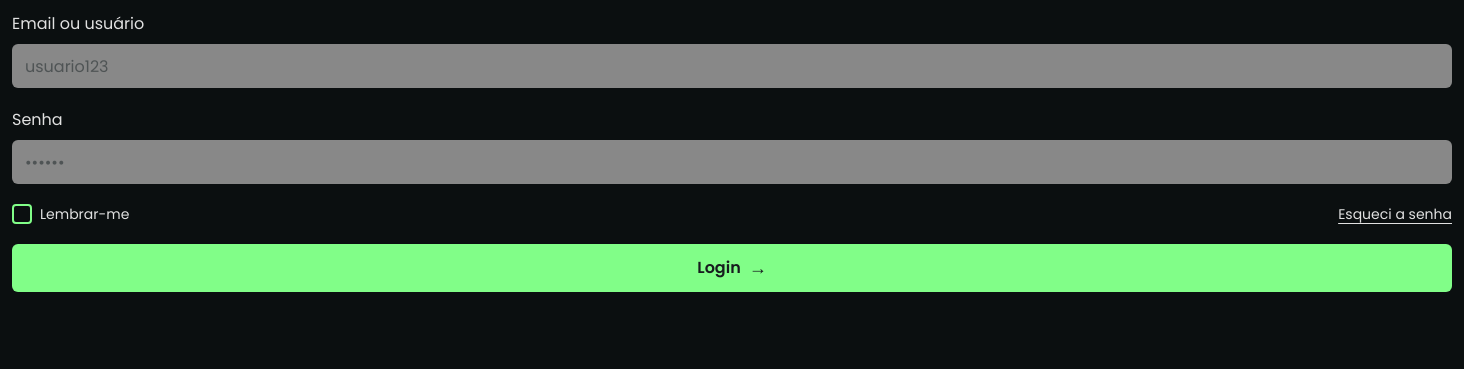
LoginForm › mostra erros e não envia quando o formulário está vazio
The image size is (1464, 369).
Click the button "Login →" at (732, 268), box [12, 244, 1452, 292]
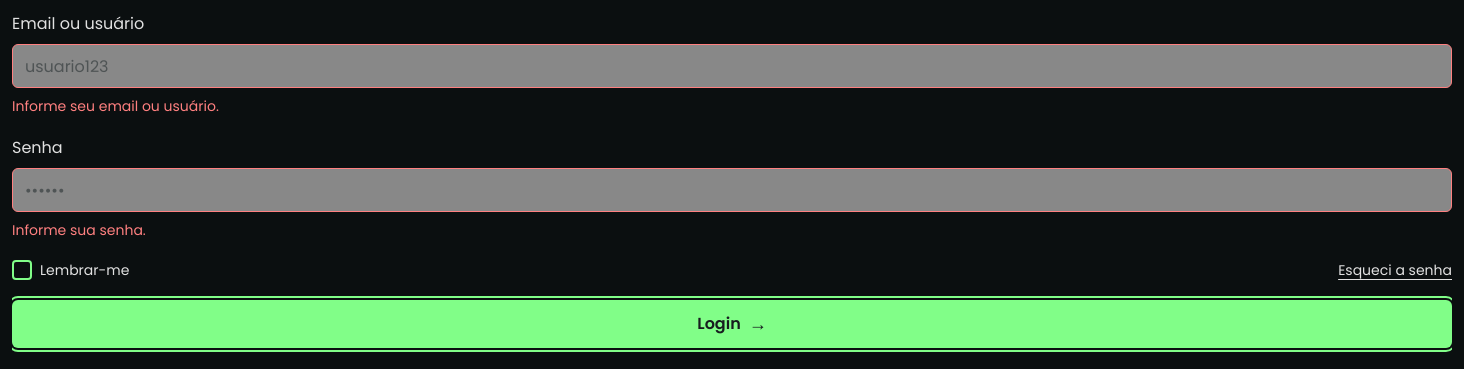
Now the text "Informe seu email ou usuário." is shown, box [12, 96, 219, 116]
Now the text "Informe sua senha." is shown, box [12, 220, 146, 240]
